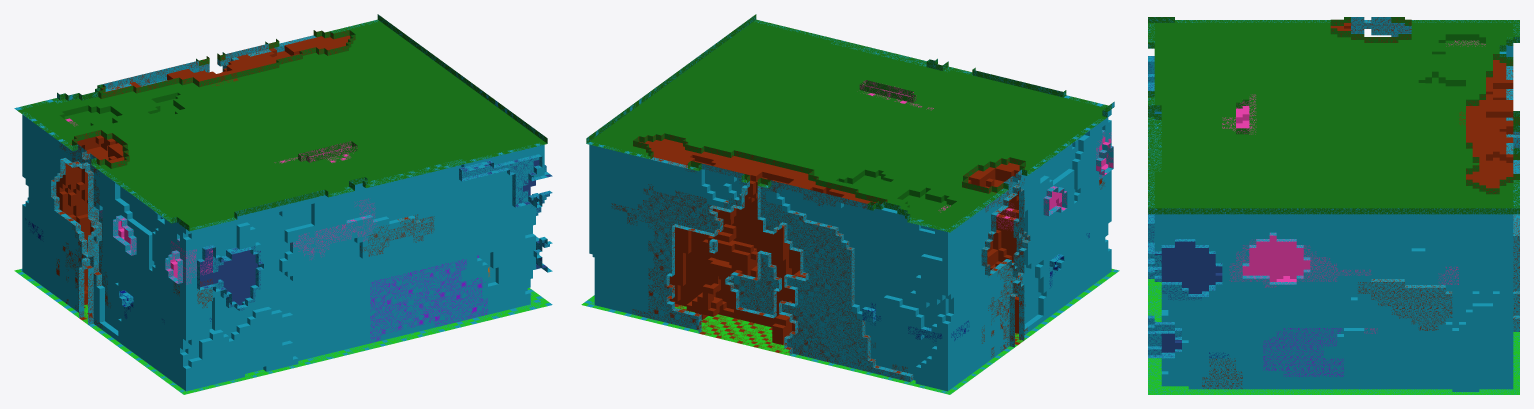
Rendered from DWRC_prediction.obj.
The picture shows the model from 3 angles, left to right: view 1: azimuth 30°, elevation 25°; view 2: azimuth 150°, elevation 25°; view 3: azimuth 270°, elevation 25°; orthographic projection. The views are drawn at different scales.
Visible parts, largest first — view 1: wall, ceiling, furniture, window, sofa, floor, objects; view 2: wall, ceiling, furniture, floor, objects, table; view 3: ceiling, wall, furniture, objects, window, floor, sofa.
Boxes of the visible parts, x1,y1,x2,y2 form: wall: [14, 15, 552, 394]; ceiling: [17, 14, 547, 231]; furniture: [51, 30, 434, 327]; window: [197, 155, 551, 310]; sofa: [370, 255, 487, 343]; floor: [14, 269, 549, 394]; objects: [65, 118, 377, 284]; wall: [584, 16, 1119, 394]; ceiling: [586, 14, 1113, 232]; furniture: [611, 133, 1104, 381]; floor: [581, 269, 1118, 394]; objects: [860, 80, 1113, 230]; table: [862, 233, 1089, 342]; ceiling: [1148, 17, 1519, 214]; wall: [1148, 17, 1519, 394]; furniture: [1202, 17, 1519, 389]; objects: [1222, 40, 1485, 333]; window: [1148, 56, 1222, 358]; floor: [1148, 279, 1519, 394]; sofa: [1263, 328, 1343, 376].
Bounding box in the file's own units: 5.52 × 2.48 × 4.4.
